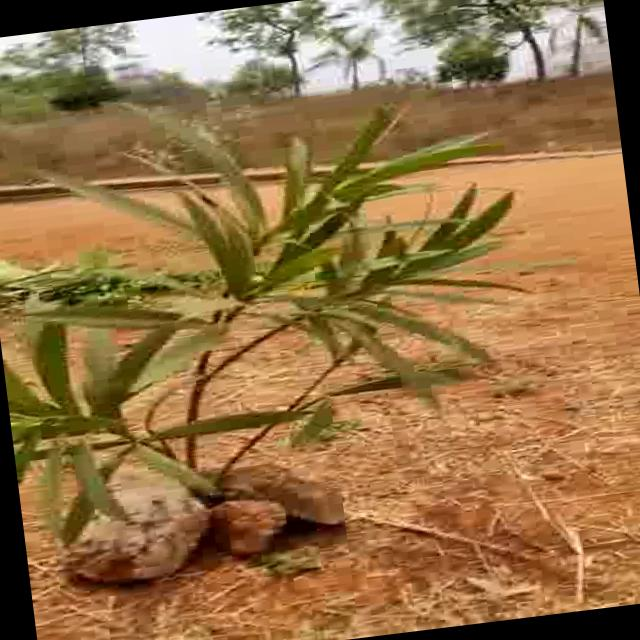OLEANDER: (0, 54, 502, 487)
